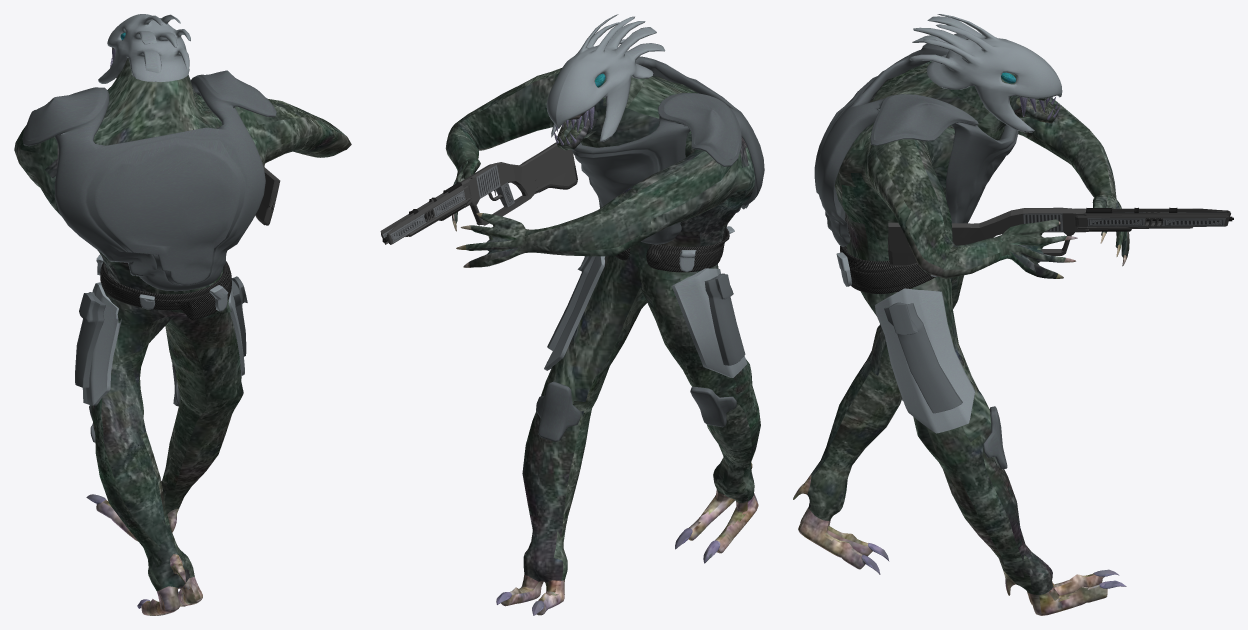
File: AndarEscopeta.0017.obj
The picture shows the model from 3 angles, left to right: view 1: azimuth 30°, elevation 25°; view 2: azimuth 150°, elevation 25°; view 3: azimuth 270°, elevation 25°; orthographic projection. The views are drawn at different scales.
Visible parts, largest first — view 1: polySurface184, escopeta:Cylinder001 polySurface184; view 2: polySurface184, escopeta:Cylinder001 polySurface184; view 3: polySurface184, escopeta:Cylinder001 polySurface184.
Boxes of the visible parts, box(x1,y1,x2,y2) form: polySurface184: box(14, 14, 351, 615); escopeta:Cylinder001 polySurface184: box(255, 167, 280, 225); polySurface184: box(445, 14, 764, 615); escopeta:Cylinder001 polySurface184: box(380, 142, 577, 244); polySurface184: box(793, 14, 1129, 615); escopeta:Cylinder001 polySurface184: box(888, 207, 1233, 266).
Size of the model in its own units: 1.41 by 2.5 by 1.73.
Materials: 10 (8 with a texture image).
